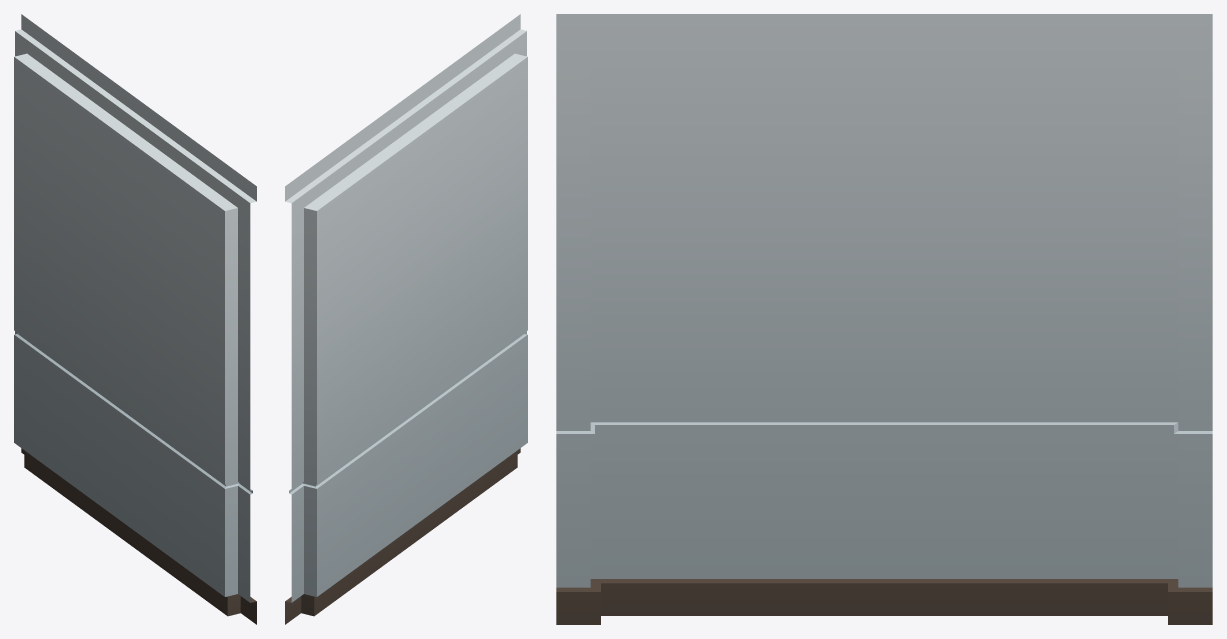
File: 4_deadend.fbx
The picture shows the model from 3 angles, left to right: view 1: azimuth 30°, elevation 25°; view 2: azimuth 150°, elevation 25°; view 3: azimuth 270°, elevation 25°; orthographic projection. The views are drawn at different scales.
Parts seen in each view (by area): view 1: 4m_wall; view 2: 4m_wall; view 3: 4m_wall.
Boxes of the visible parts, x1,y1,x2,y2 form: 4m_wall: (14, 14, 256, 624); 4m_wall: (285, 14, 527, 624); 4m_wall: (556, 14, 1212, 624).
Size of the model in its own units: 15 by 321 by 313.
